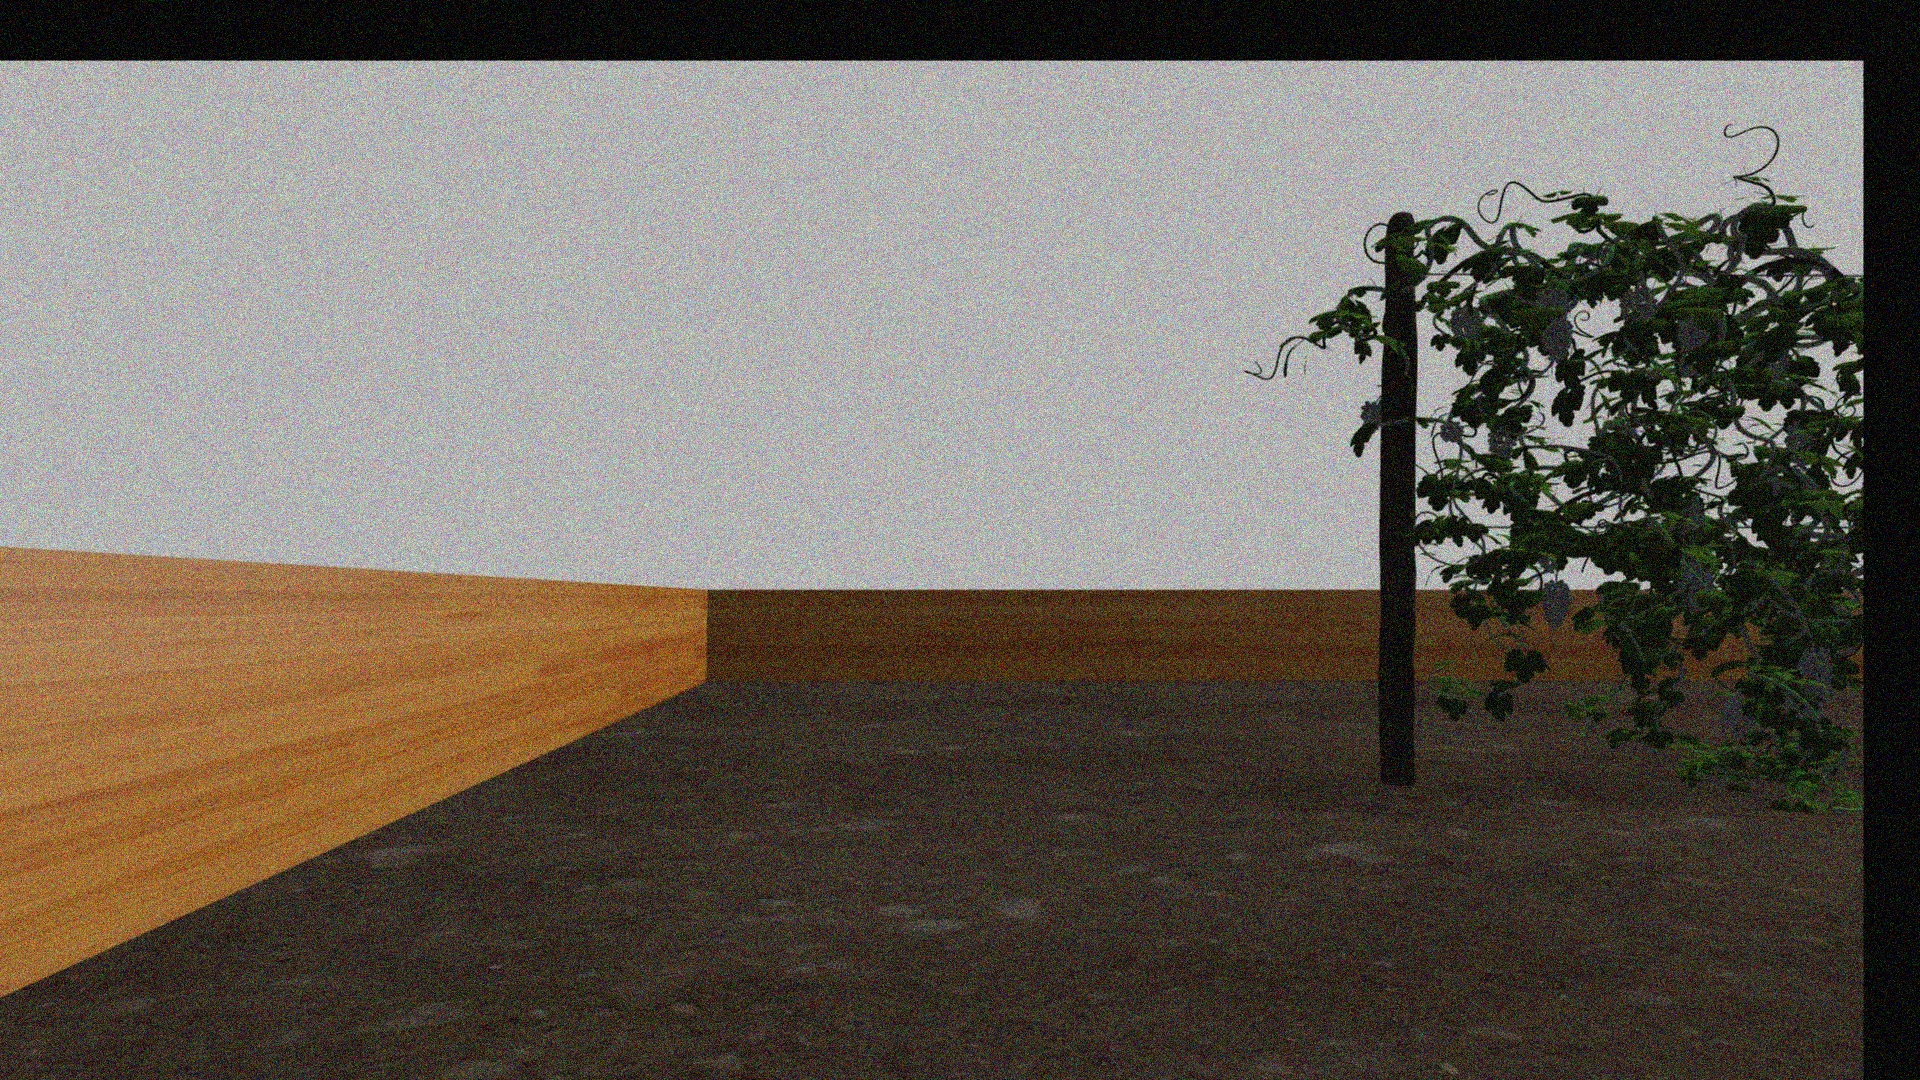grape: (1796, 646, 1833, 698), (1538, 579, 1571, 633), (1539, 316, 1573, 364), (1676, 309, 1708, 353), (1448, 305, 1480, 345), (1722, 694, 1749, 738), (1619, 286, 1654, 320), (1486, 425, 1513, 460), (1360, 400, 1381, 429), (1439, 421, 1464, 444)
